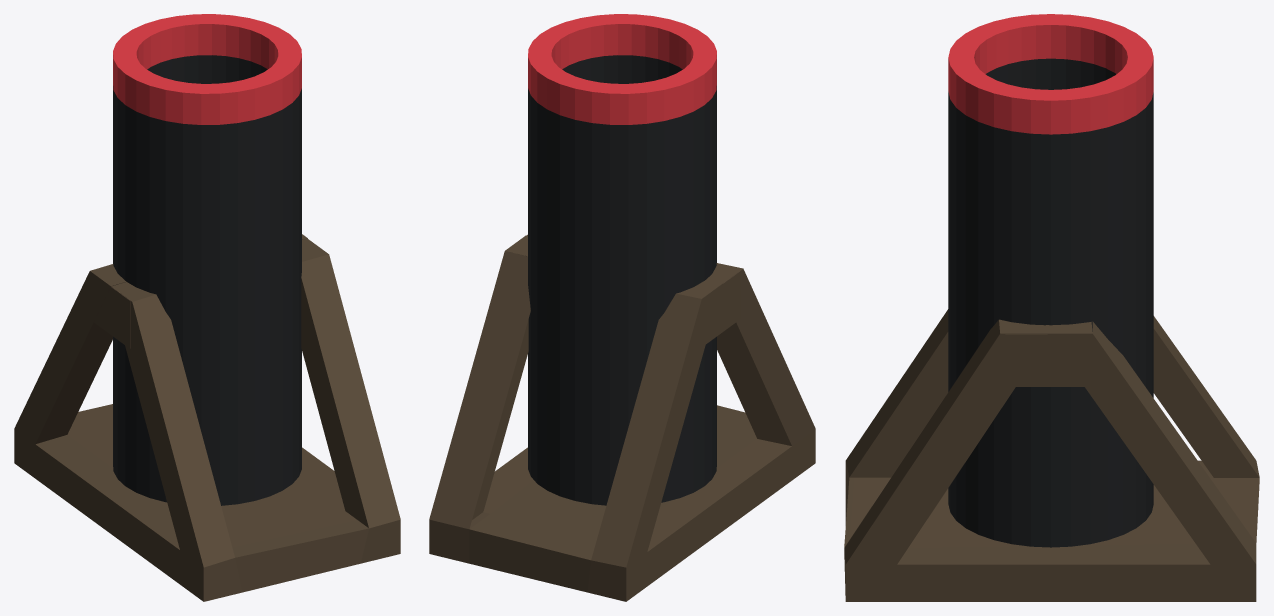
Rendered from Jim.fbx.
3 renders of one model, left to right at view 1: azimuth 30°, elevation 25°; view 2: azimuth 150°, elevation 25°; view 3: azimuth 270°, elevation 25°, orthographic. The views are drawn at different scales.
Parts seen in each view (by area): view 1: Cylinder, Cube.001, Cube; view 2: Cylinder, Cube.001, Cube; view 3: Cylinder, Cube.001, Cube.002.
Boxes of the visible parts, x1,y1,x2,y2 form: Cylinder: (113, 14, 301, 505); Cube.001: (14, 234, 400, 601); Cube: (94, 287, 130, 348); Cylinder: (528, 14, 716, 505); Cube.001: (429, 234, 815, 601); Cube: (706, 270, 741, 343); Cylinder: (948, 14, 1153, 547); Cube.001: (844, 309, 1259, 601); Cube.002: (1005, 334, 1087, 386).
Bounding box in the file's own units: 60.06 × 132 × 101.
